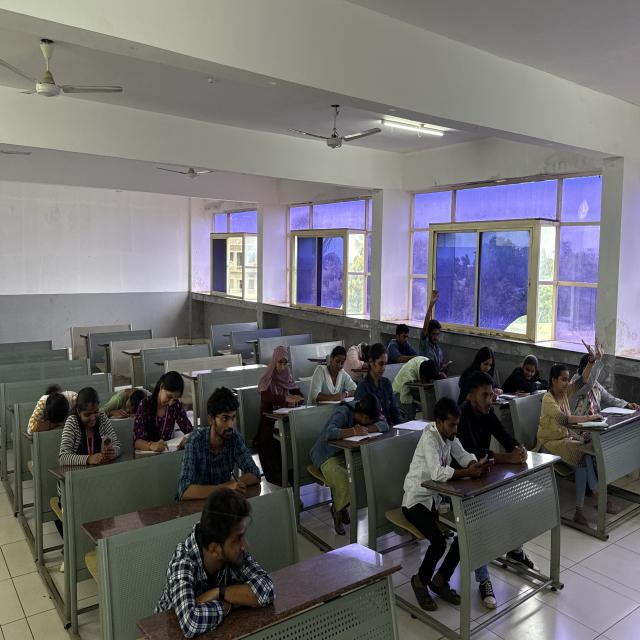Hand Rising: (540, 338, 594, 449), (578, 332, 636, 424), (419, 288, 450, 362)
Reading: (355, 344, 423, 431), (256, 344, 319, 421), (136, 370, 190, 452)
Sleeping: (313, 393, 390, 457), (26, 382, 80, 432), (94, 383, 158, 423), (390, 352, 440, 391)
Using Phone: (407, 395, 494, 506), (56, 386, 123, 464)
Writing: (310, 345, 356, 407)
